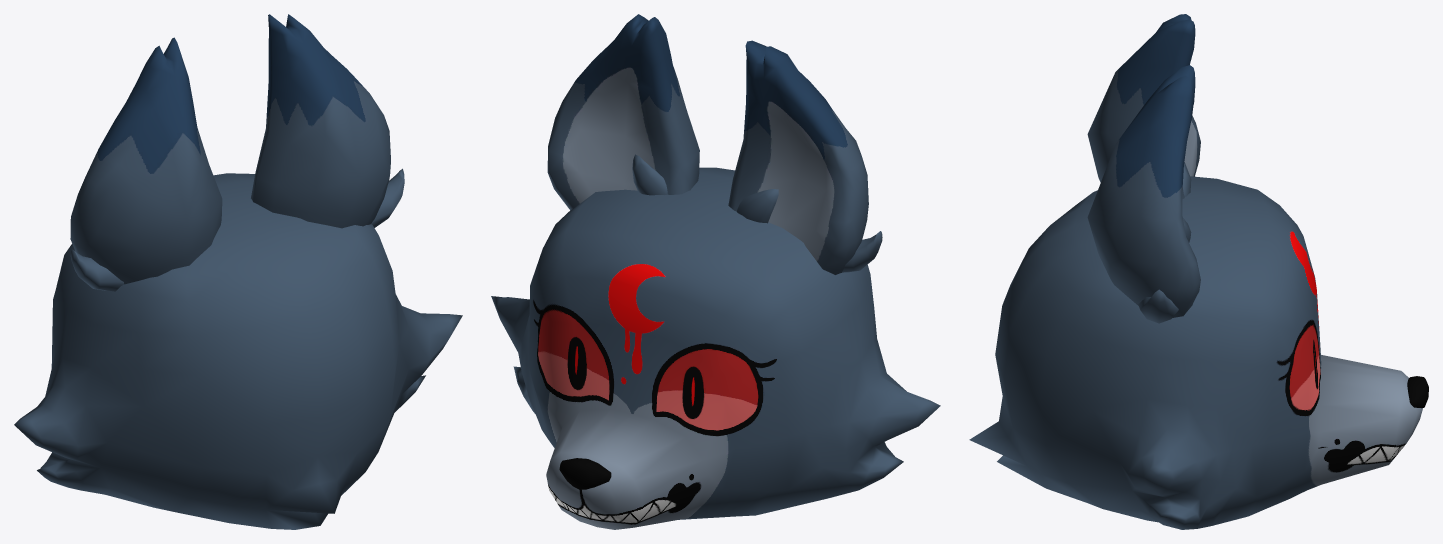
The model's file is Twisted Eclipse.glb.
3 renders of one model, left to right at view 1: azimuth 30°, elevation 25°; view 2: azimuth 150°, elevation 25°; view 3: azimuth 270°, elevation 25°, orthographic. The views are drawn at different scales.
Parts seen in each view (by area): view 1: Object_70; view 2: Object_70; view 3: Object_70.
Boxes of the visible parts, left/top/right/bottom form: Object_70: left=14, top=14, right=462, bottom=529; Object_70: left=491, top=14, right=940, bottom=529; Object_70: left=969, top=14, right=1428, bottom=529.
Size of the model in its own units: 3.25 by 3.2 by 2.94.
1 material, 1 textured.
